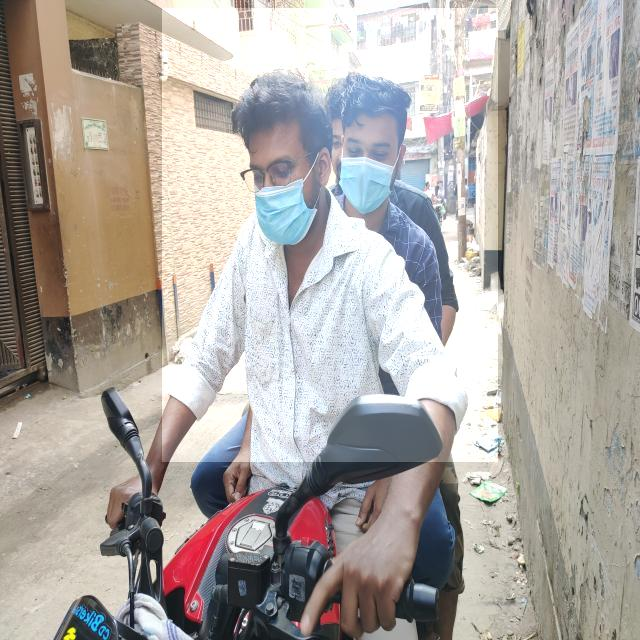Overloading: (162, 8, 498, 462)
